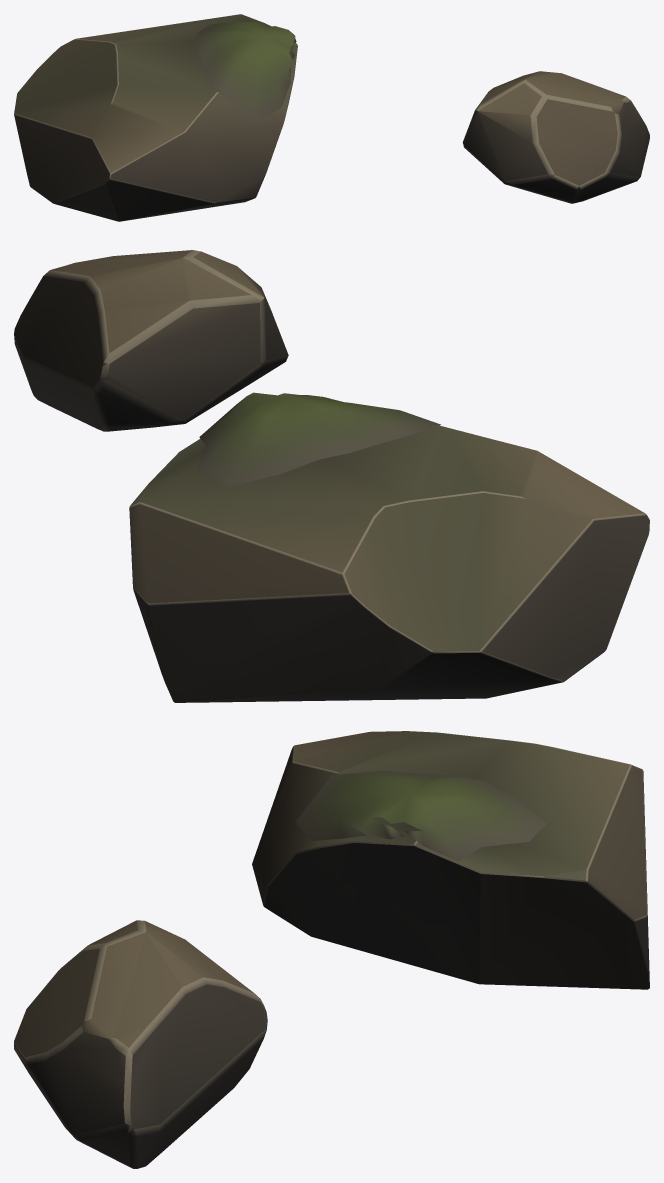
The model's file is boulder_pair.glb.
3 views of the same model, one above another, from view 1: azimuth 30°, elevation 25°; view 2: azimuth 150°, elevation 25°; view 3: azimuth 270°, elevation 25° (orthographic). The views are drawn at different scales.
Visible parts, largest first — view 1: boulder_pair; view 2: boulder_pair; view 3: boulder_pair.
Part boxes in pixels (left/top/right/bottom): boulder_pair: left=14, top=14, right=649, bottom=221; boulder_pair: left=14, top=250, right=649, bottom=702; boulder_pair: left=14, top=731, right=649, bottom=1168.
Size of the model in its own units: 1.07 by 0.2942 by 0.8453.
